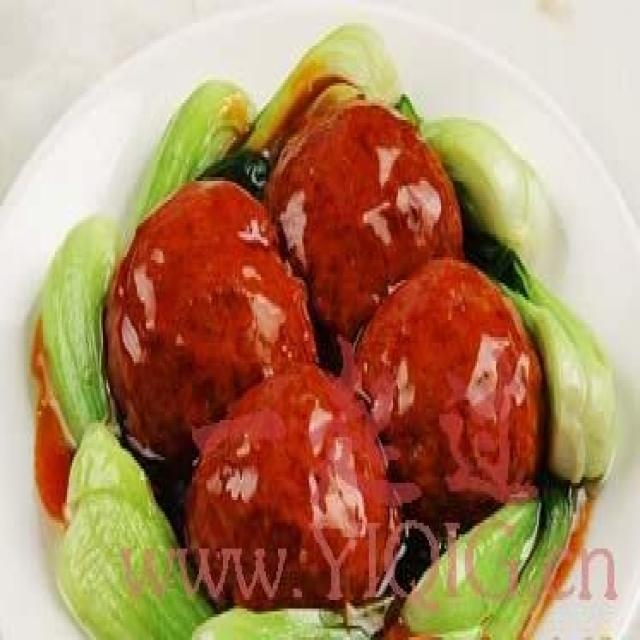猪肉菜式: (38, 43, 609, 628)
